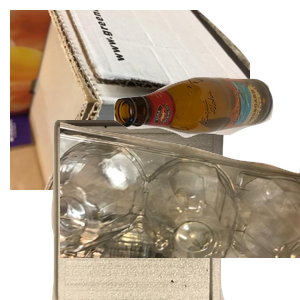cardboard: (10, 10, 250, 190)
glass: (111, 74, 300, 204)
plastic: (60, 120, 300, 300)
trash: (49, 120, 269, 300)
